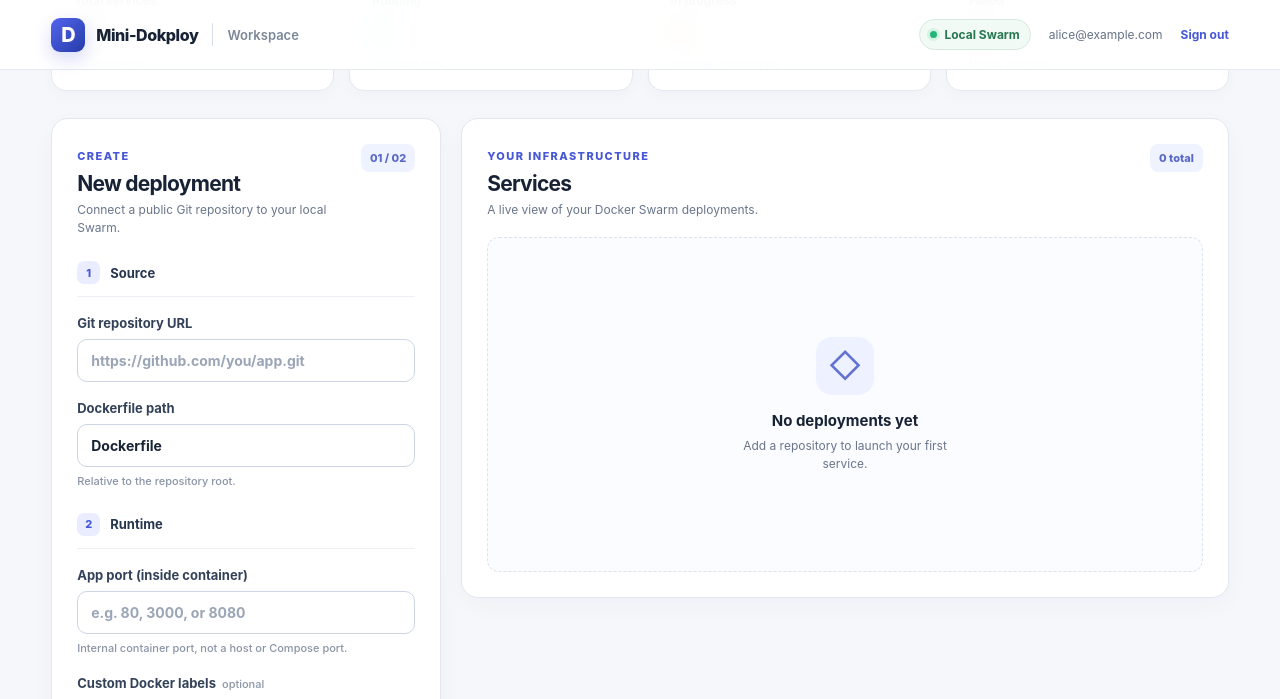
Test: Mini-Dokploy page › warns and focuses the port field instead of deploying when it is empty
(page scrolled)
Type "https://github.com/example/app.git" into the field labelled "Git repository URL".
click(246, 360); type("https://github.com/example/app.git")  # box left=77, top=339, right=415, bottom=382
(page scrolled)
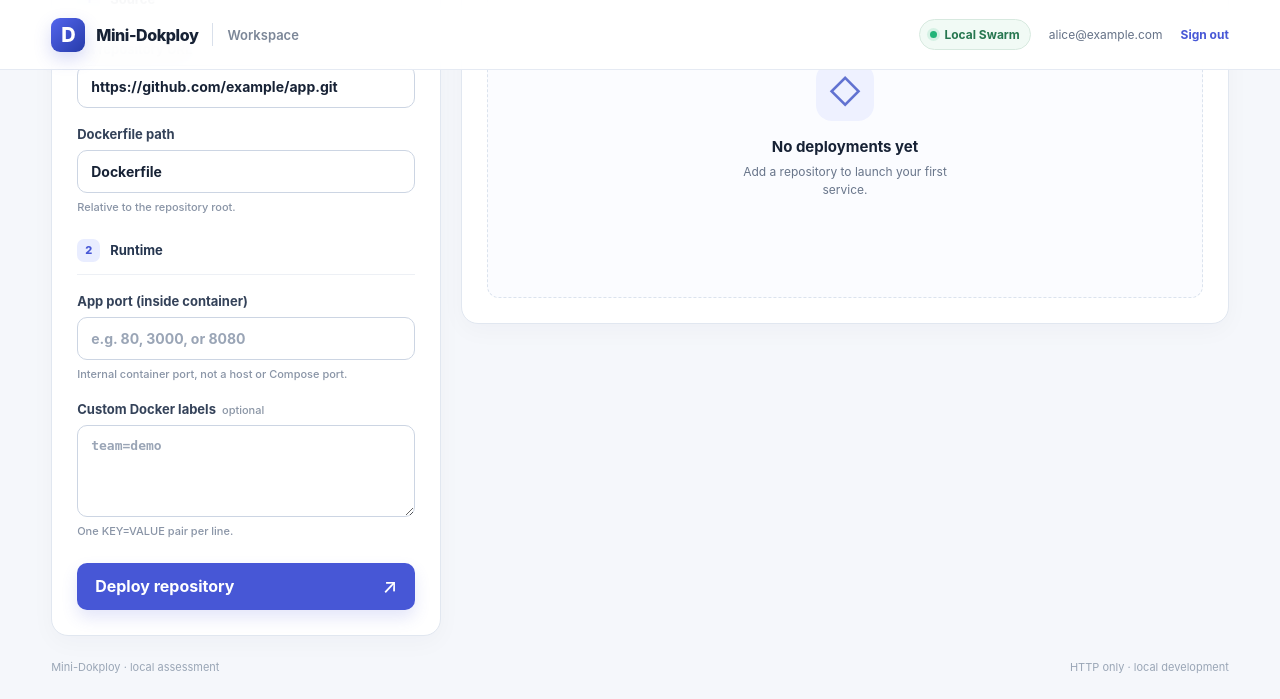
Click the button "Deploy repository ↗".
click(165, 586)  # box left=77, top=563, right=415, bottom=610
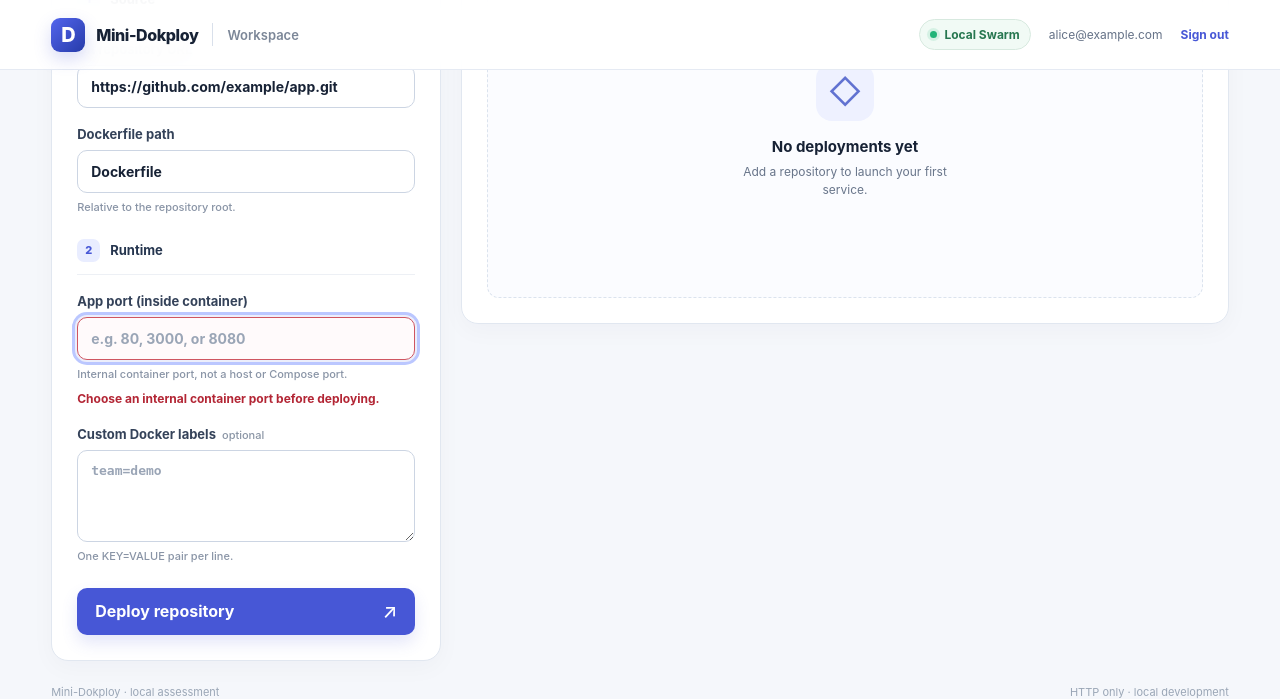
Now the text "Choose an internal container port before deploying." is shown, box left=77, top=391, right=415, bottom=408
